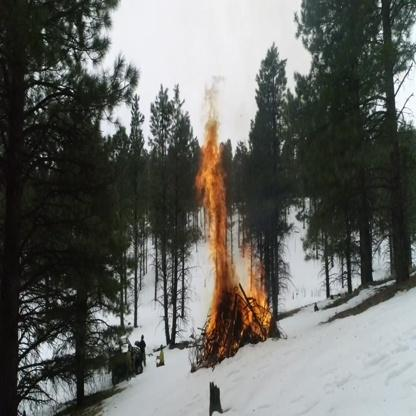Fire: (191, 74, 272, 365)
